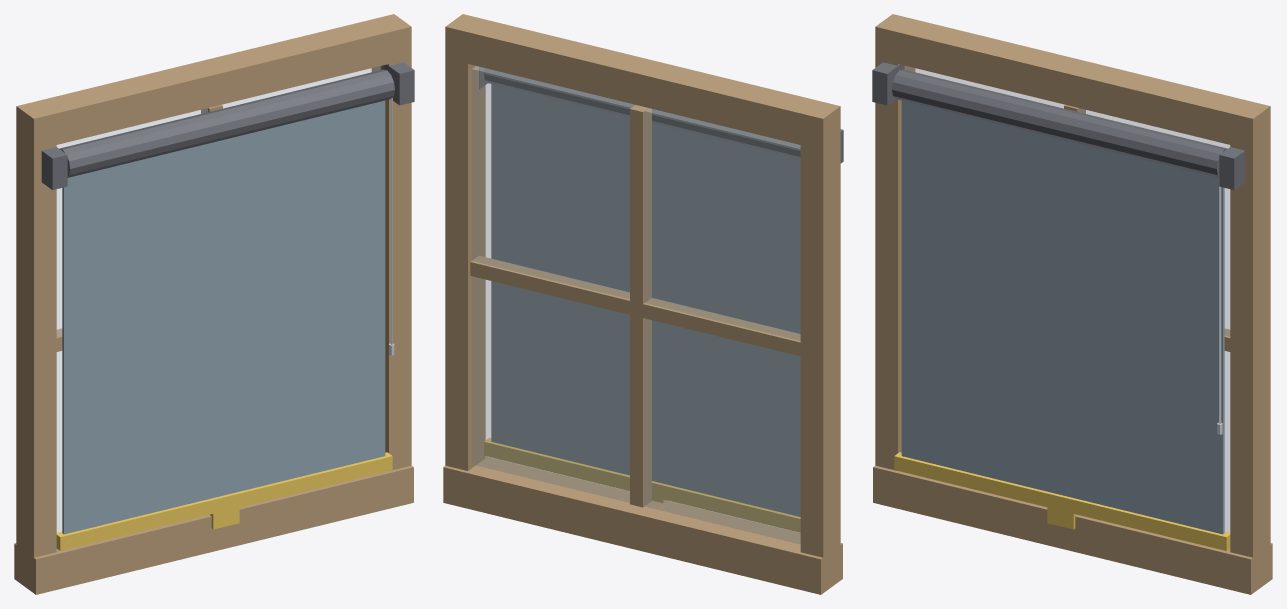
File: animated-mechanisms-kit-blind-roll-bca60f2f__24648.glb
The picture shows the model from 3 angles, left to right: view 1: azimuth 30°, elevation 25°; view 2: azimuth 150°, elevation 25°; view 3: azimuth 330°, elevation 25°; orthographic projection.
Parts seen in each view (by area): view 1: blind/paint, blind-roll, blind/accent; view 2: blind-roll, blind/paint, blind/accent; view 3: blind/paint, blind-roll, blind/accent.
Part boxes in pixels (x1=…): blind/paint: x1=62, y1=100, x2=385, y2=534; blind-roll: x1=14, y1=14, x2=414, y2=594; blind/accent: x1=56, y1=452, x2=392, y2=550; blind-roll: x1=443, y1=14, x2=843, y2=594; blind/paint: x1=491, y1=84, x2=800, y2=516; blind/accent: x1=484, y1=438, x2=800, y2=532; blind/paint: x1=901, y1=100, x2=1224, y2=534; blind-roll: x1=872, y1=14, x2=1272, y2=594; blind/accent: x1=894, y1=452, x2=1230, y2=550.
Size of the model in its own units: 2 by 2.4 by 0.28.
